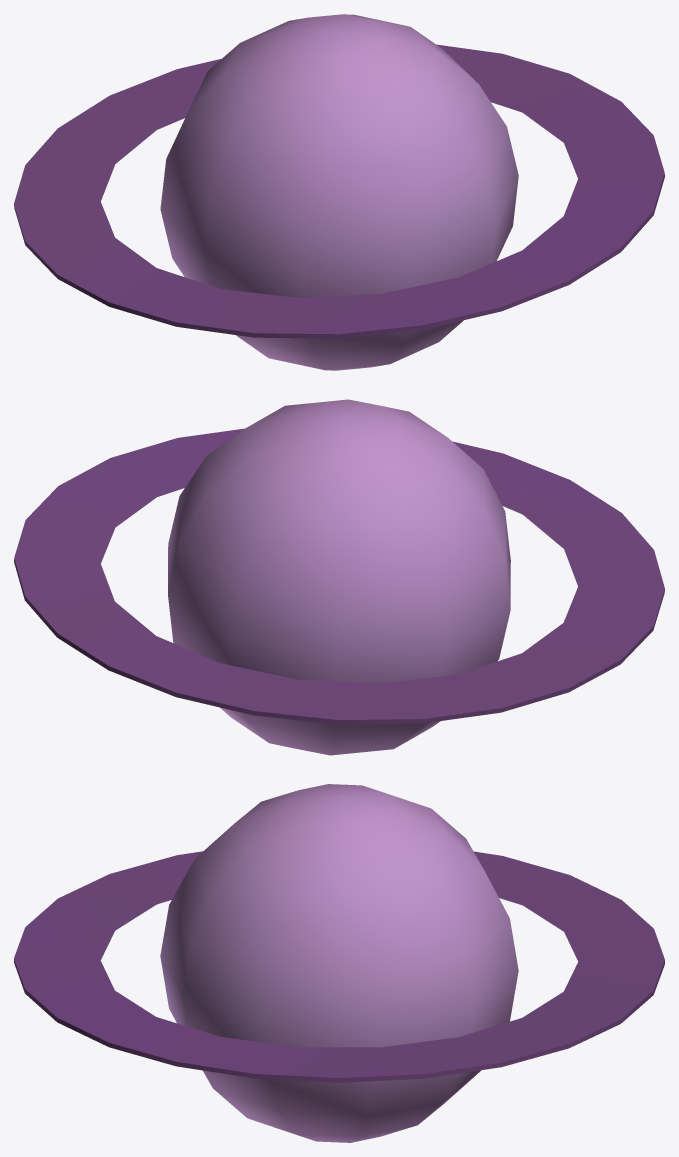
File: colony-planet-02-art.glb
3 renders of one model, top to bottom at view 1: azimuth 30°, elevation 25°; view 2: azimuth 150°, elevation 25°; view 3: azimuth 270°, elevation 25°, orthographic.
Visible parts, largest first — view 1: Colony_Planet_02_Art; view 2: Colony_Planet_02_Art; view 3: Colony_Planet_02_Art.
Boxes of the visible parts, box(x1,y1,x2,y2) form: Colony_Planet_02_Art: box(14, 14, 664, 370); Colony_Planet_02_Art: box(14, 399, 664, 755); Colony_Planet_02_Art: box(14, 784, 664, 1142).
Size of the model in its own units: 2.5 by 1.38 by 2.51.
Materials: 1 (1 with a texture image).
